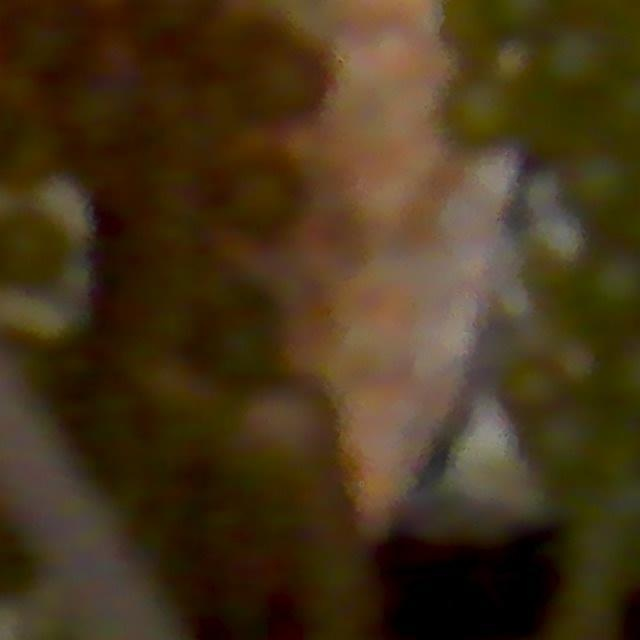SeaGrape: (224, 24, 335, 128), (246, 385, 340, 476), (223, 161, 303, 242), (62, 78, 142, 157), (522, 408, 603, 485), (441, 75, 516, 151), (541, 22, 615, 96), (567, 255, 640, 326), (567, 159, 629, 221), (503, 361, 563, 421), (550, 335, 606, 392), (441, 0, 495, 56), (92, 28, 143, 84), (488, 37, 541, 90)
